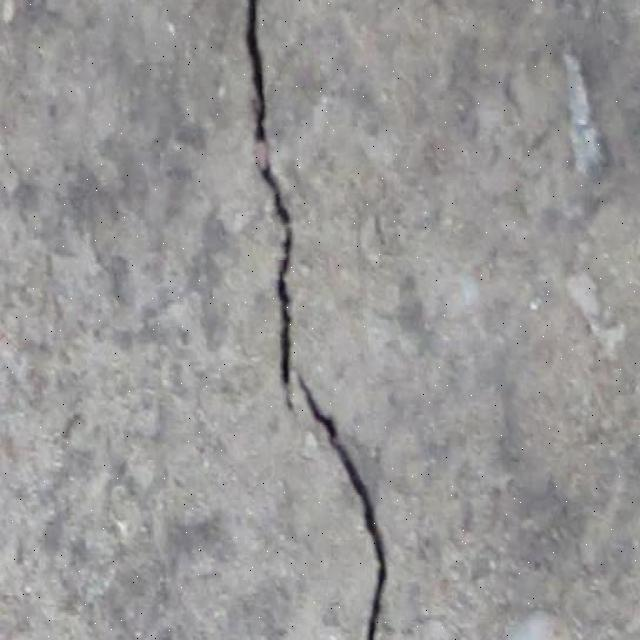crack: (240, 0, 389, 639), (241, 5, 296, 407), (243, 1, 275, 159)
